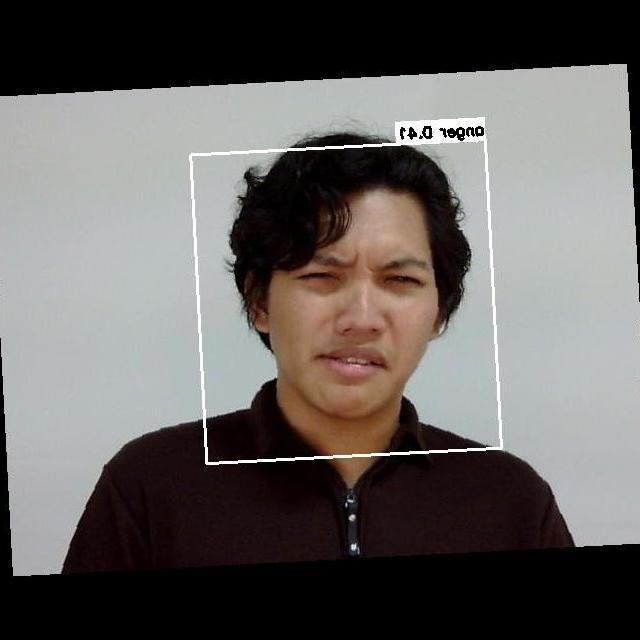Disgust: (266, 219, 463, 415)
